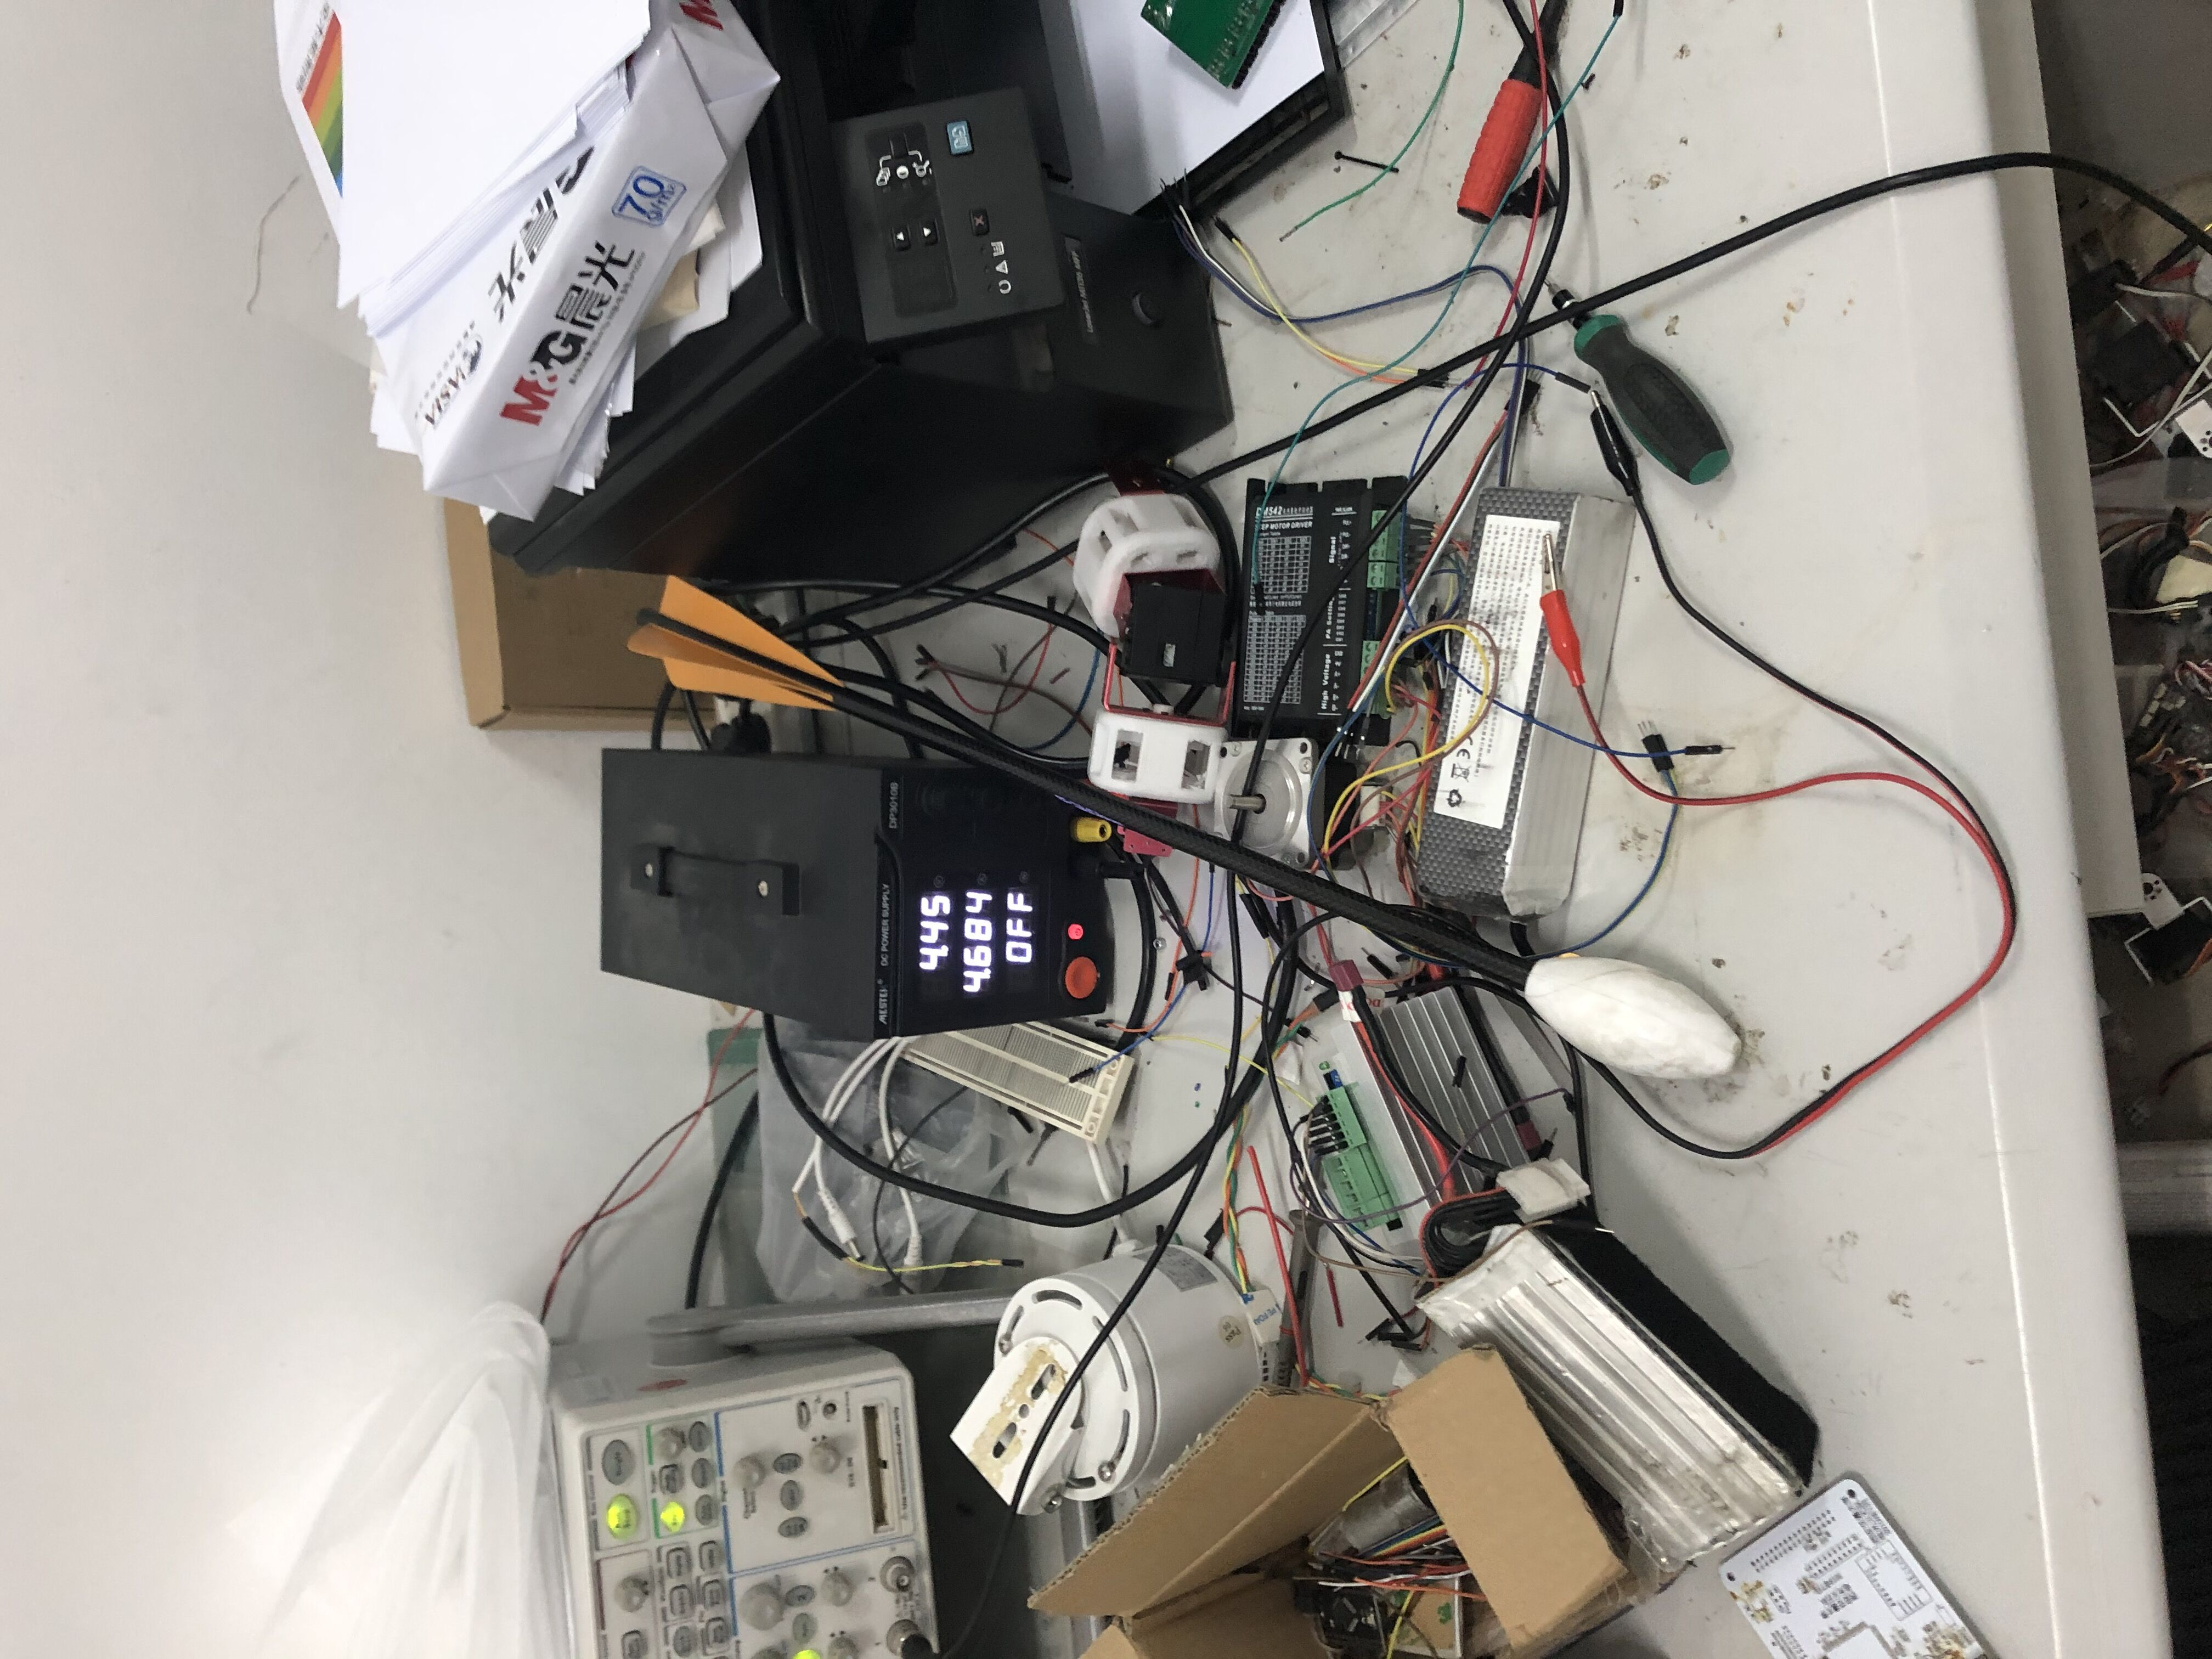arrow: (617, 566, 1754, 1091)
arrowFront: (1515, 950, 1750, 1080)
